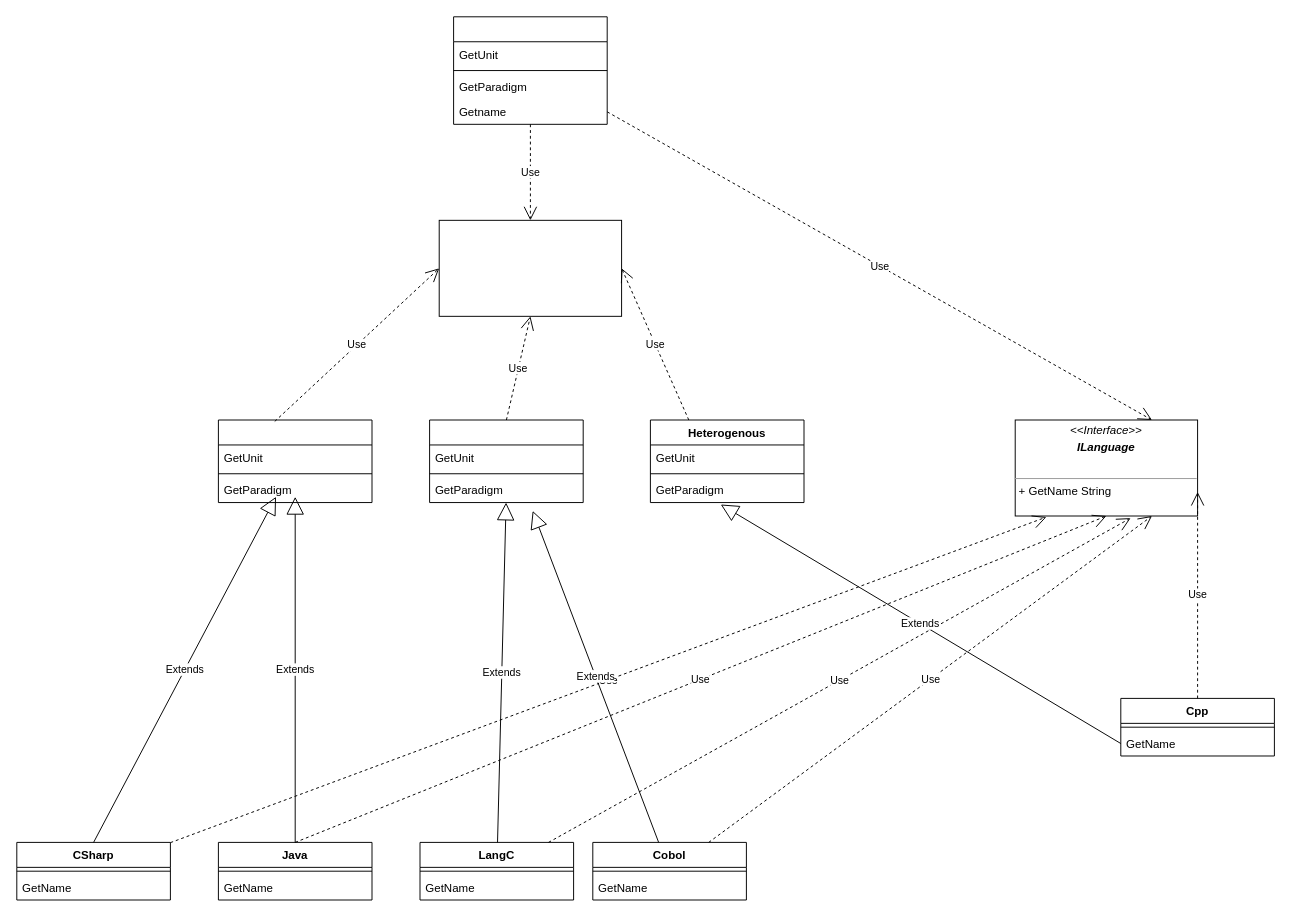
This 1291x920 diagram has some shape labels left out. The shapes that lost their labels are listed below. From the top down, each one's box as (x1, y1, x2, y2) in pixels, then its label:
(453, 16, 607, 124): ProLang
(438, 219, 622, 316): <<Interface>> IParadigm + GetParadigm String +GetUnit String
(217, 419, 372, 503): ObjectOriented
(429, 419, 583, 503): Procedural
